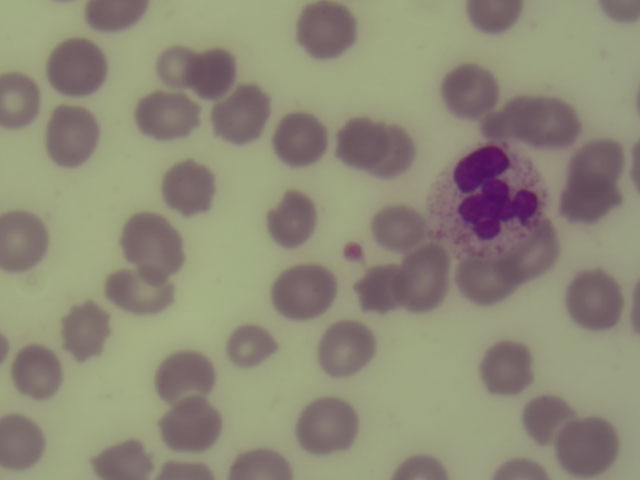Platelets: (336, 236, 370, 270)
RBC: (105, 266, 177, 316), (154, 399, 225, 448), (131, 89, 199, 140), (151, 349, 219, 399), (515, 96, 579, 148), (1, 212, 51, 272), (556, 176, 624, 219), (320, 322, 373, 375), (441, 62, 494, 115), (509, 223, 562, 276), (458, 254, 511, 307), (396, 253, 449, 306), (368, 198, 421, 251), (334, 118, 387, 171), (298, 400, 351, 453), (10, 345, 63, 398), (56, 304, 109, 357), (268, 193, 321, 246), (125, 215, 178, 268), (163, 160, 216, 213), (46, 109, 99, 162), (52, 41, 105, 94), (300, 1, 353, 54), (273, 113, 326, 166), (565, 420, 618, 473), (521, 389, 574, 442), (478, 342, 531, 395), (568, 274, 621, 327), (273, 266, 326, 319), (213, 90, 266, 142), (1, 413, 46, 472), (88, 442, 155, 480), (353, 263, 399, 316), (375, 122, 417, 180), (568, 144, 622, 189), (189, 45, 235, 95), (226, 447, 292, 480), (154, 44, 200, 89), (228, 323, 276, 363), (388, 448, 448, 480), (1, 72, 33, 129), (84, 1, 149, 29), (467, 1, 521, 31)
WBC: (432, 141, 542, 254)
